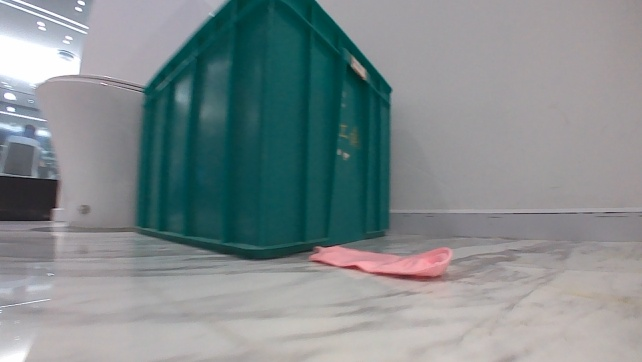socks: (305, 240, 456, 282)
toilet: (31, 69, 147, 233)
